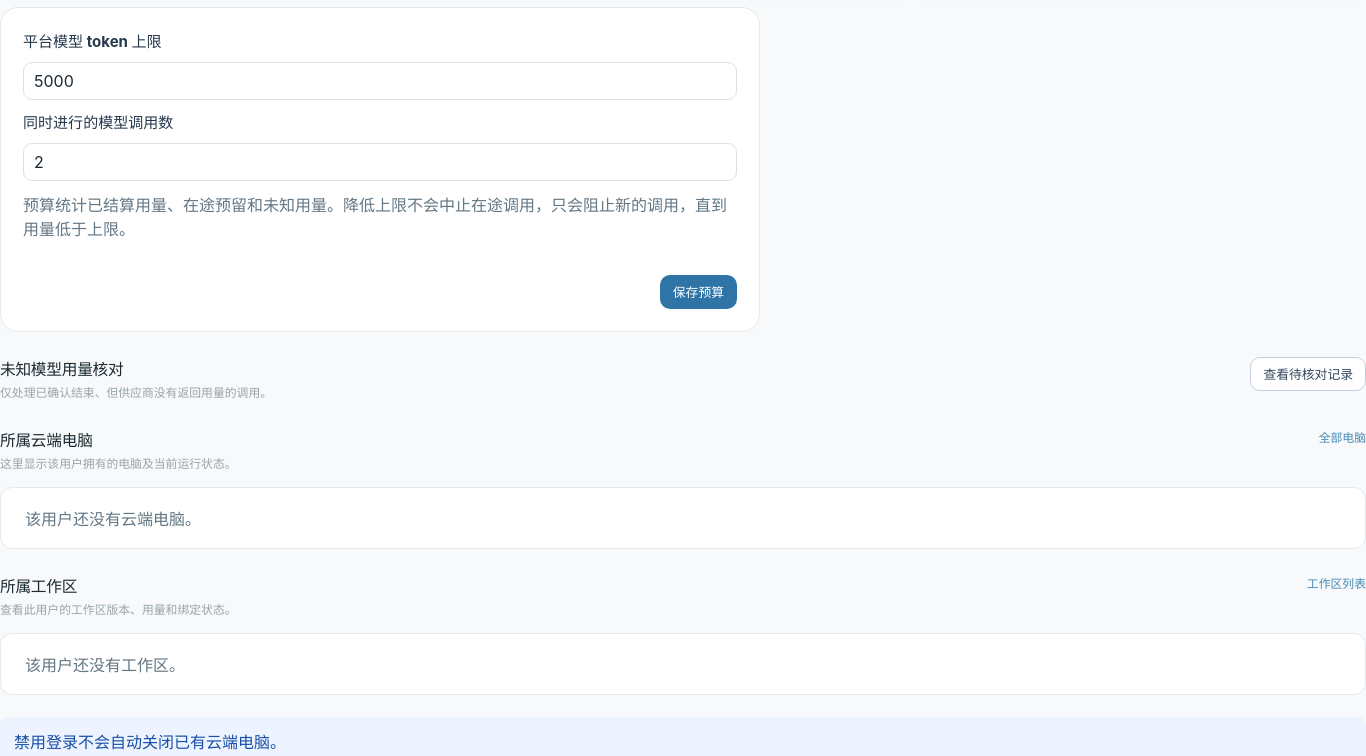
Test: admin model usage reconciliation › lists only after opening and records provider-verified counts with evidence
(page scrolled)
Click the button "查看待核对记录" at coordinates (1308, 374), box [1250,357,1365,391]
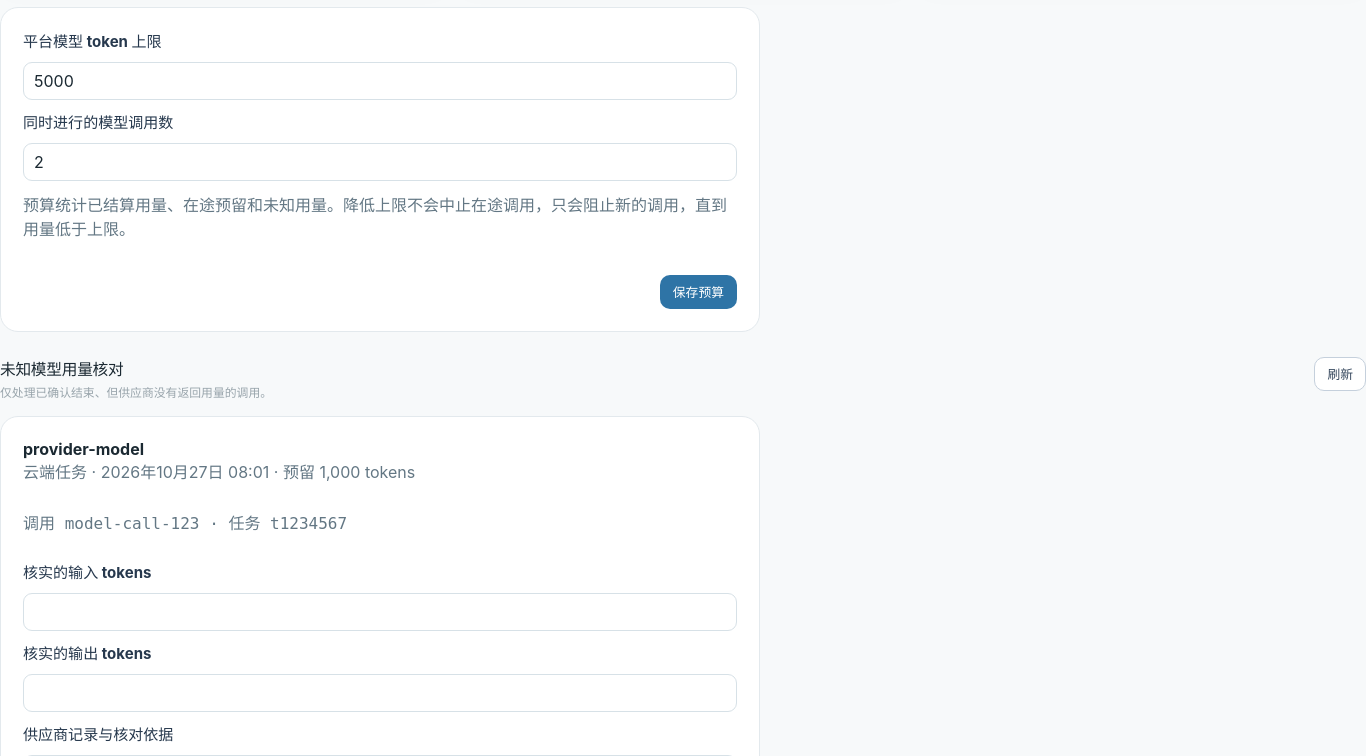
Result: the text "provider-model" is shown at [23,439,144,459]
Type "620" into the number field labelled "核实的输入 tokens" at coordinates (380, 612), box [23,593,737,631]
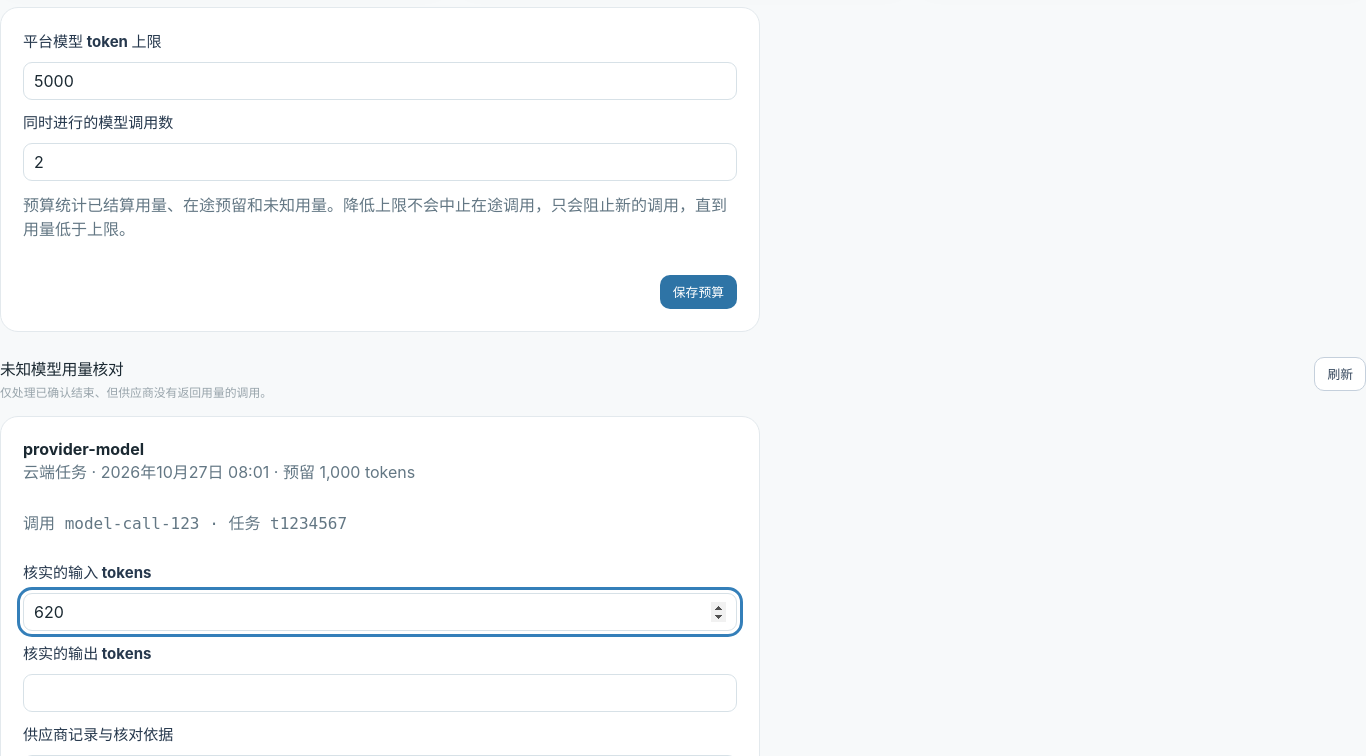
Type "180" into the number field labelled "核实的输出 tokens" at coordinates (380, 693), box [23,674,737,712]
(page scrolled)
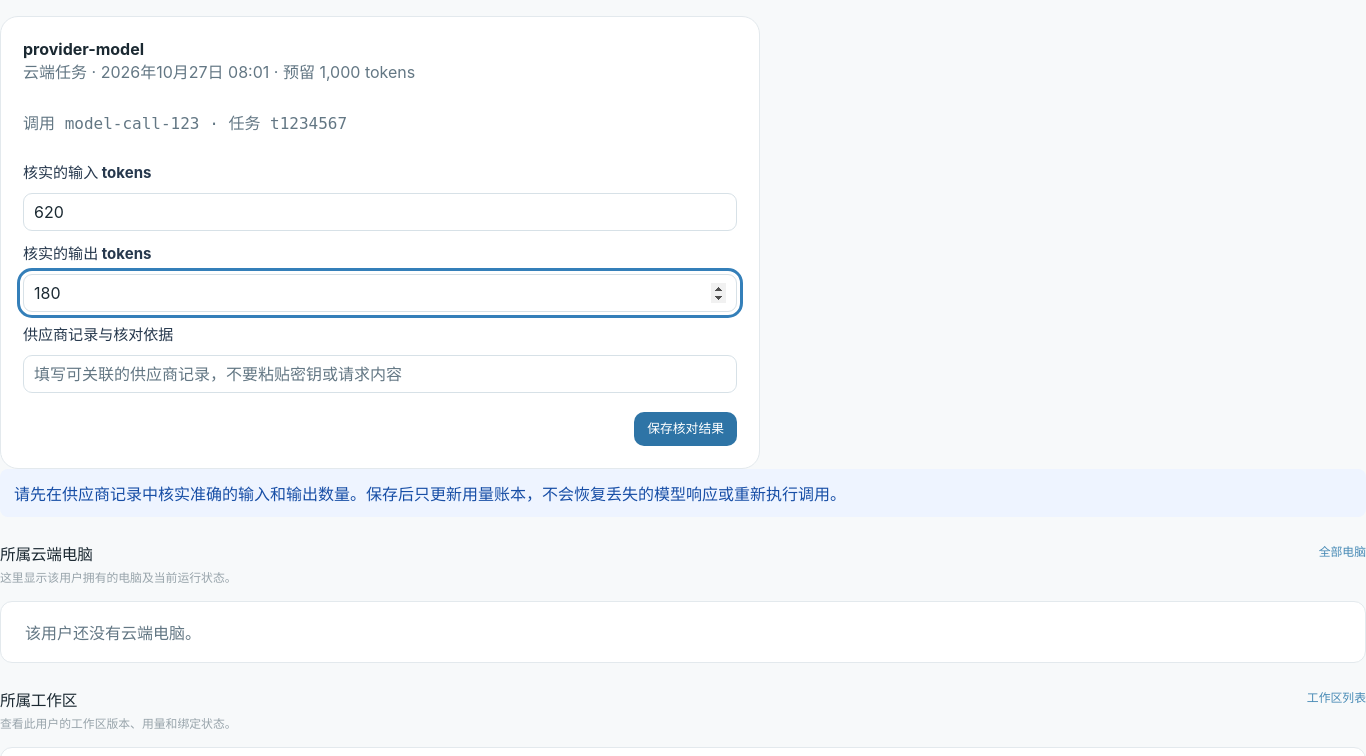
Type "供应商账单记录 #abc-123" into the field labelled "供应商记录与核对依据" at coordinates (380, 374), box [23,355,737,393]
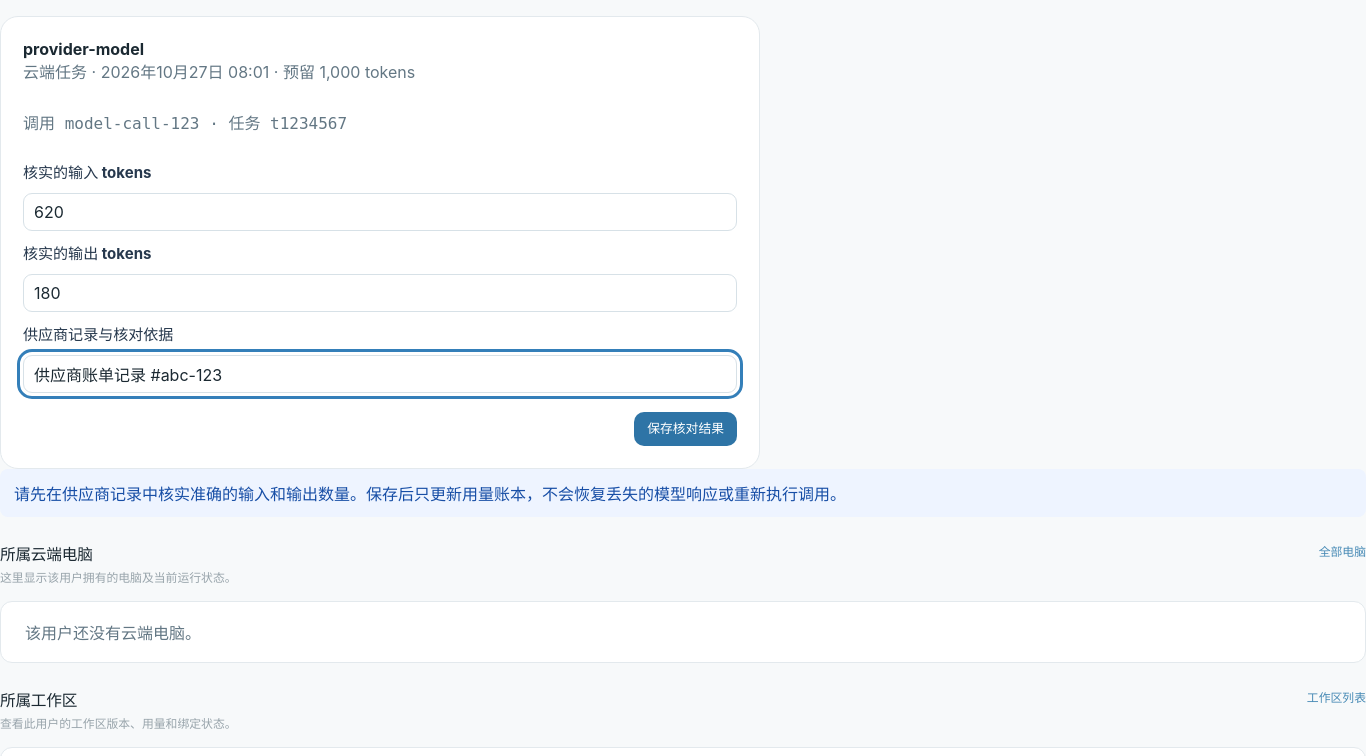
Click the button "保存核对结果" at coordinates (686, 429), box [634,412,737,446]
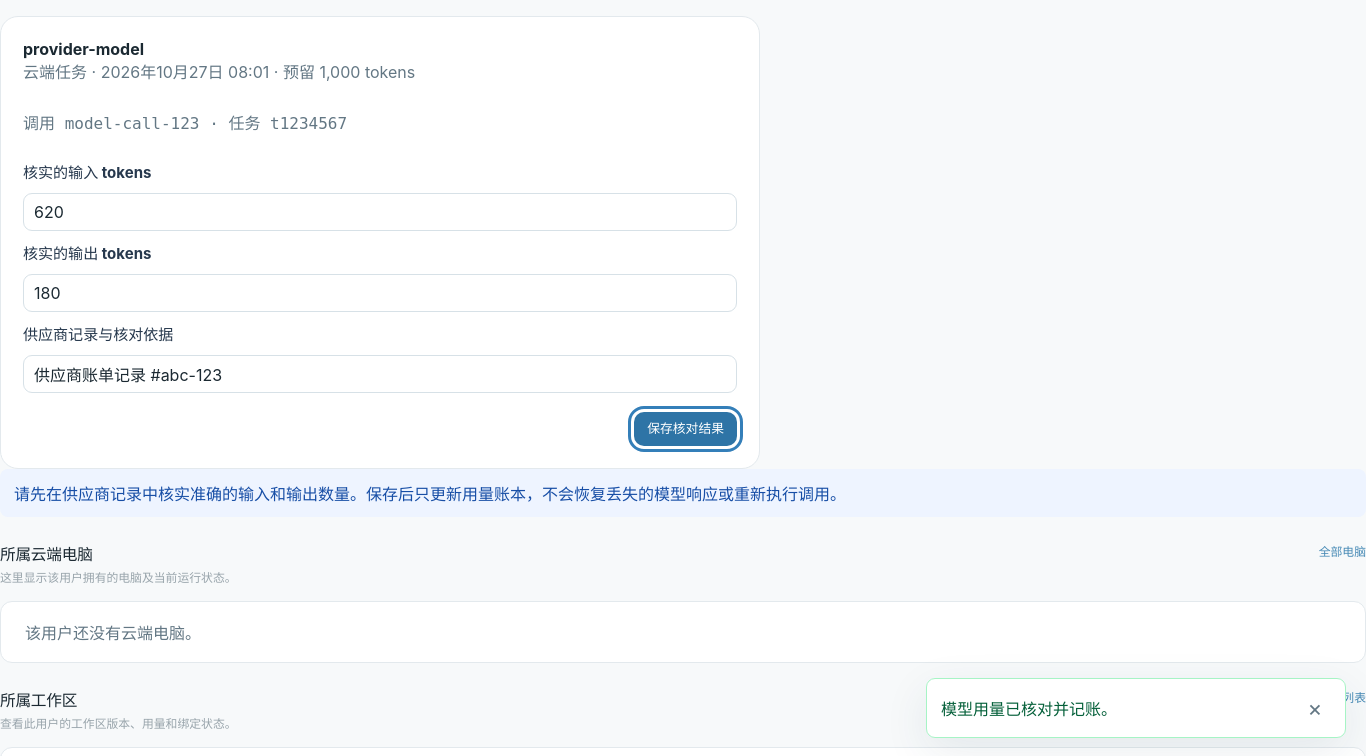
Result: the text "请先在供应商记录中核实准确的输入和输出数量。保存后只更新用量账本，不会恢复丢失的模型响应或重新执行调用。" is shown at [0,469,1365,517]
Result: the text "模型用量已核对并记账。" is shown at [941,699,1117,719]
